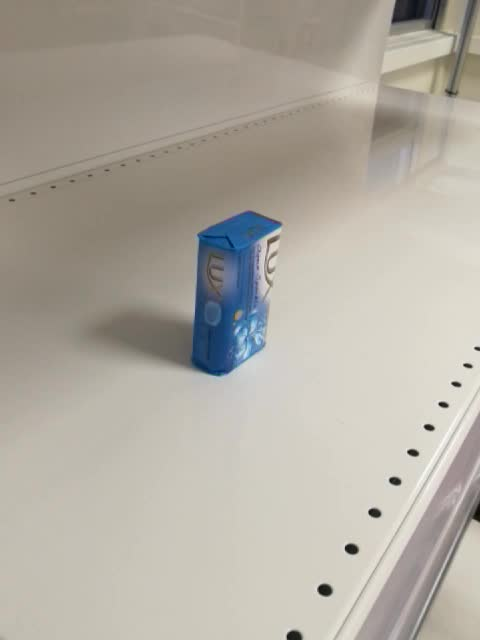soap: (187, 209, 285, 379)
